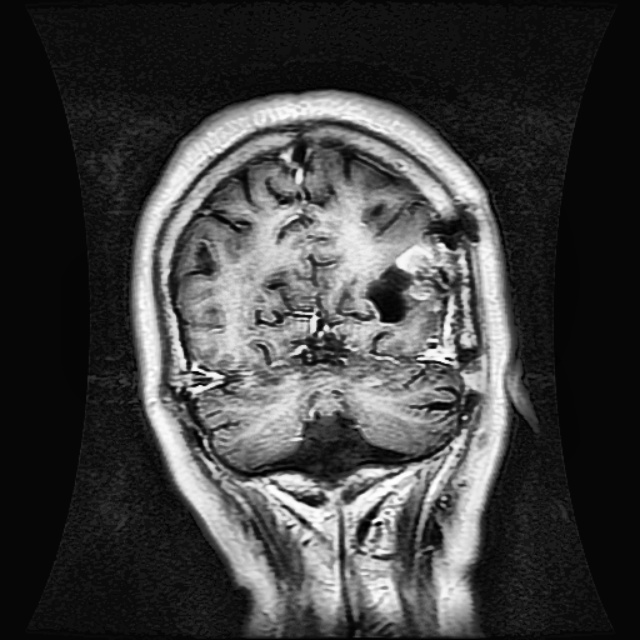Meningioma: (368, 239, 460, 323)
